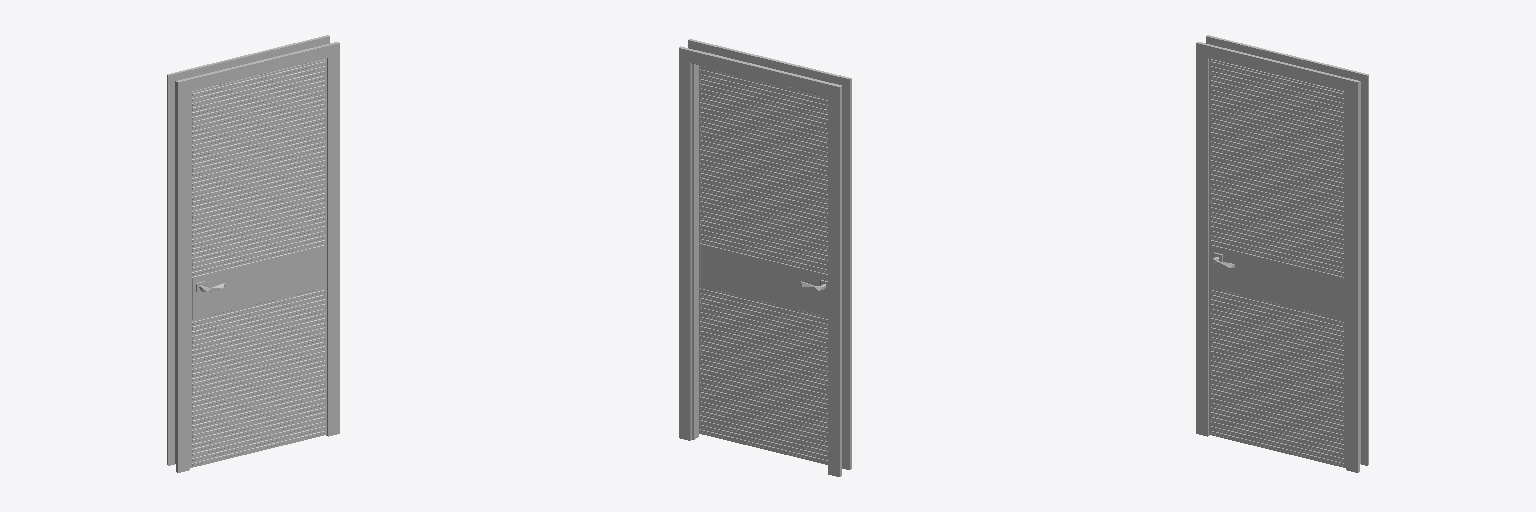
The model's file is Door Costa DORIAN 2016 N271018.obj.
3 renders of one model, left to right at view 1: azimuth 30°, elevation 25°; view 2: azimuth 150°, elevation 25°; view 3: azimuth 330°, elevation 25°, orthographic.
Visible parts, largest first — view 1: Object999, Box055, Object1006, Object1005; view 2: Object999, Box055, Object1006, Object1005; view 3: Object999, Box055, Object1006, Object1005.
Part boxes in pixels (x1,y1,x2,y2): Object999: (192, 61, 324, 465); Box055: (190, 59, 326, 467); Object1006: (167, 37, 339, 472); Object1005: (167, 35, 338, 91); Object999: (700, 66, 827, 462); Box055: (699, 65, 827, 464); Object1006: (679, 41, 851, 476); Object1005: (679, 39, 851, 96); Object999: (1211, 61, 1343, 465); Box055: (1209, 59, 1345, 467); Object1006: (1196, 37, 1368, 472); Object1005: (1197, 35, 1368, 91).
Size of the model in its own units: 373 by 860 by 69.53.